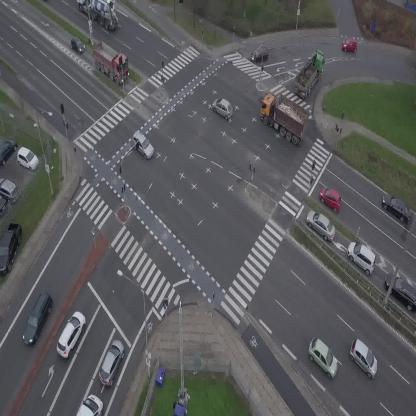car: (18, 289, 57, 347), (301, 335, 346, 380), (51, 308, 90, 359), (343, 337, 385, 379), (95, 337, 129, 388), (341, 237, 384, 277), (301, 205, 341, 244), (376, 191, 416, 224), (127, 130, 158, 161), (315, 184, 347, 214), (210, 95, 237, 121), (66, 34, 87, 57), (250, 47, 269, 61), (343, 39, 357, 52)
lorry: (251, 87, 317, 147), (84, 36, 138, 87), (289, 47, 332, 99), (76, 0, 118, 31), (76, 394, 103, 416)
